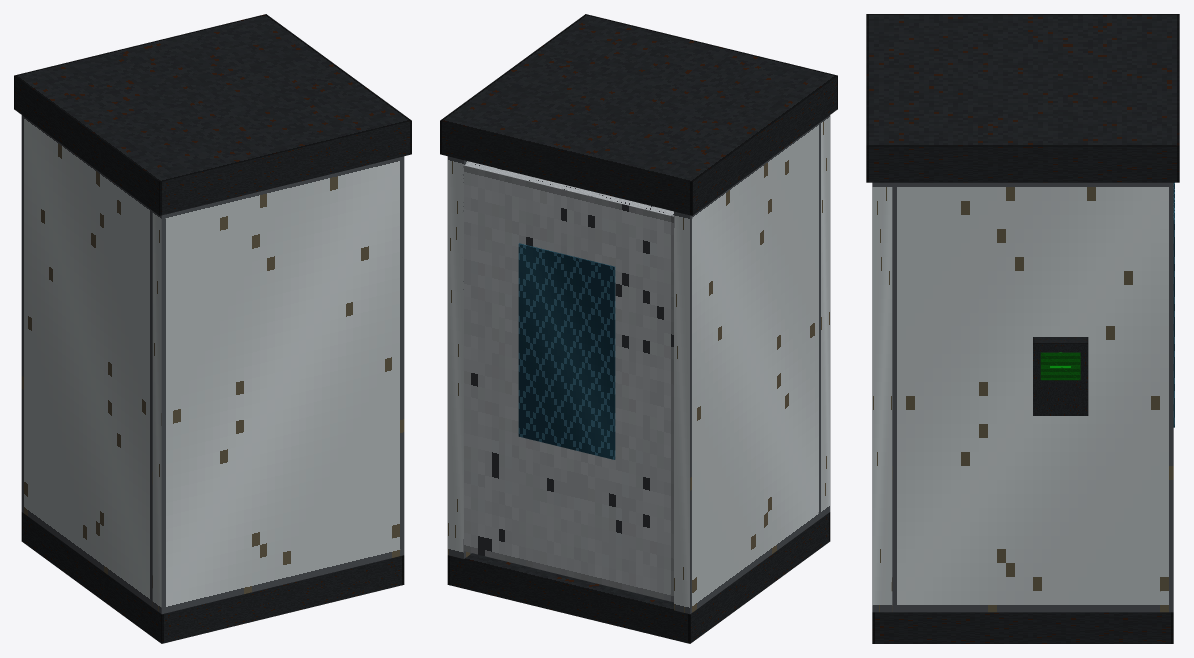
File: decon_chamber.glb
3 views of the same model, side by side, from view 1: azimuth 30°, elevation 25°; view 2: azimuth 150°, elevation 25°; view 3: azimuth 270°, elevation 25° (orthographic). The views are drawn at different scales.
Parts seen in each view (by area): view 1: decon_chamber; view 2: decon_chamber; view 3: decon_chamber.
Boxes of the visible parts, left/top/right/bottom form: decon_chamber: left=14, top=14, right=411, bottom=643; decon_chamber: left=440, top=14, right=837, bottom=643; decon_chamber: left=866, top=14, right=1179, bottom=643.
Size of the model in its own units: 1.29 by 2.2 by 1.25.
Materials: 1 (1 with a texture image).
